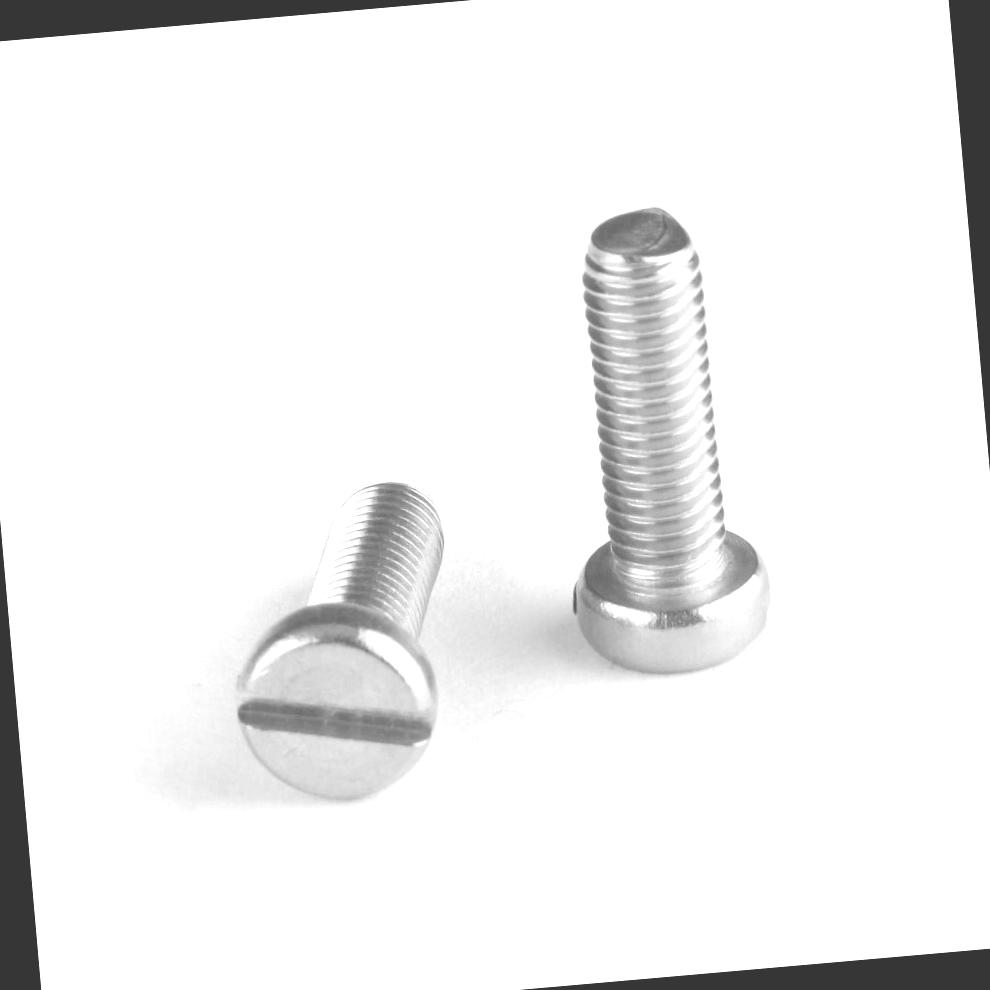slotted: (228, 592, 446, 824)
